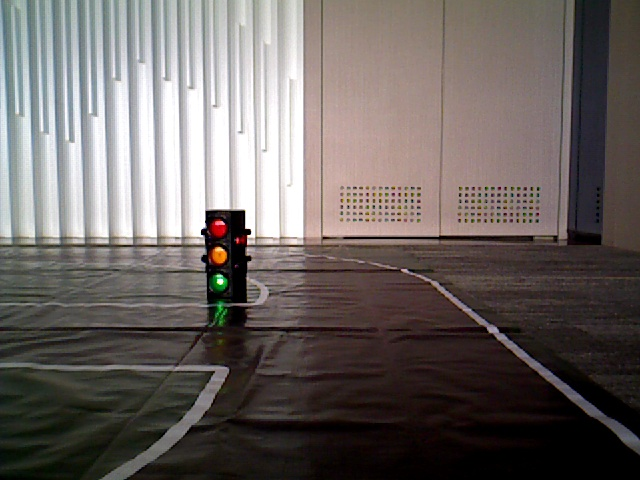green: (205, 215, 237, 297)
